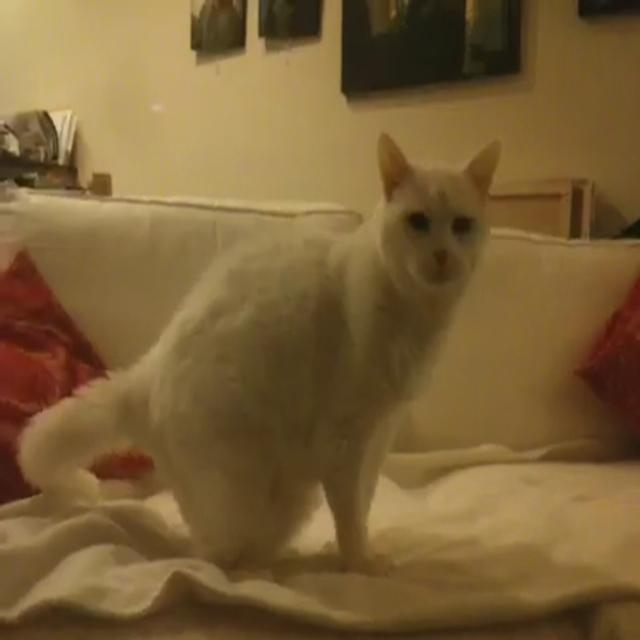Cat: (16, 130, 512, 576)
